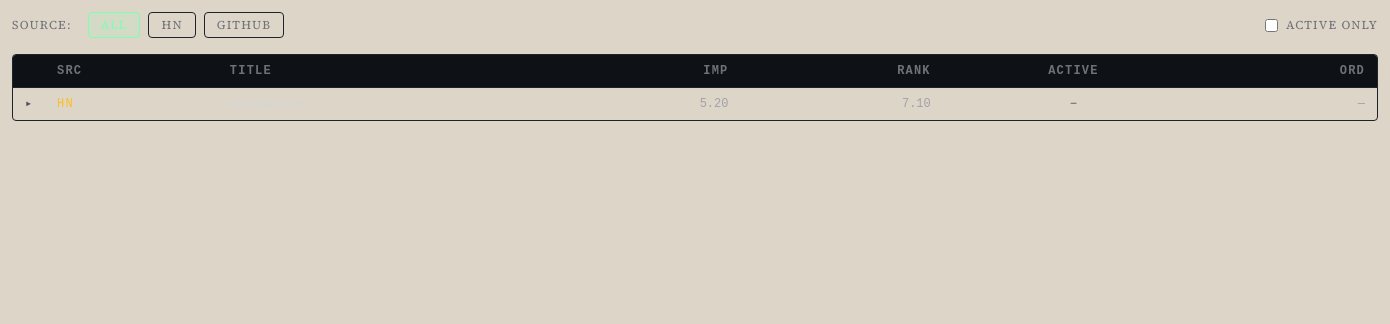
Test case: CandidatesInspector › expands a row to reveal rank_features JSON
Expected: the text "expandable" is shown, [218,88,555,120]
Click the button named "expand row": (29, 104) [25,96,32,112]
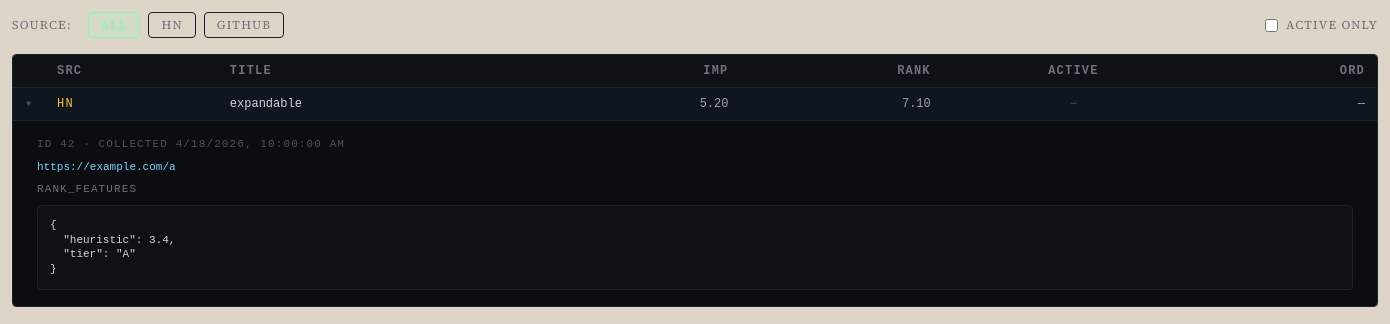
Now the text "rank_features" is shown, box [37,183,137,195]
Now the text "{ \"heuristic\": 3.4, \"tier\": \"A\" }" is shown, box [37,205,1353,290]
